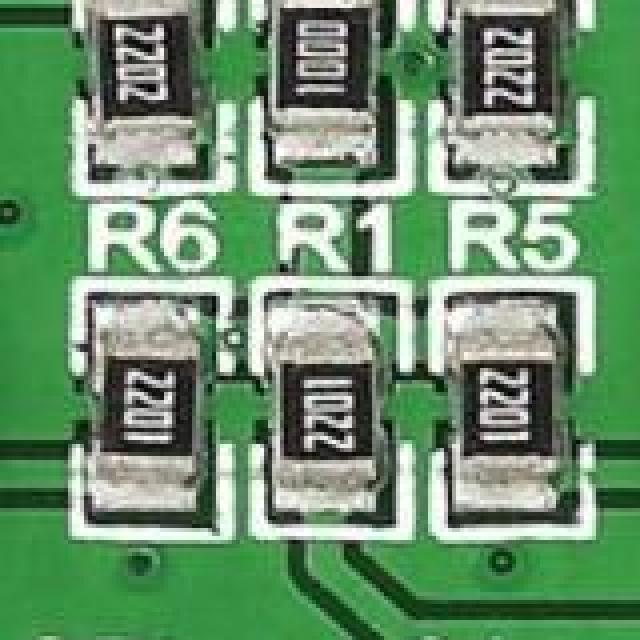resistor: (452, 304, 580, 532), (264, 312, 388, 516), (100, 304, 210, 516), (448, 0, 572, 176), (92, 0, 216, 164), (272, 0, 380, 156)
